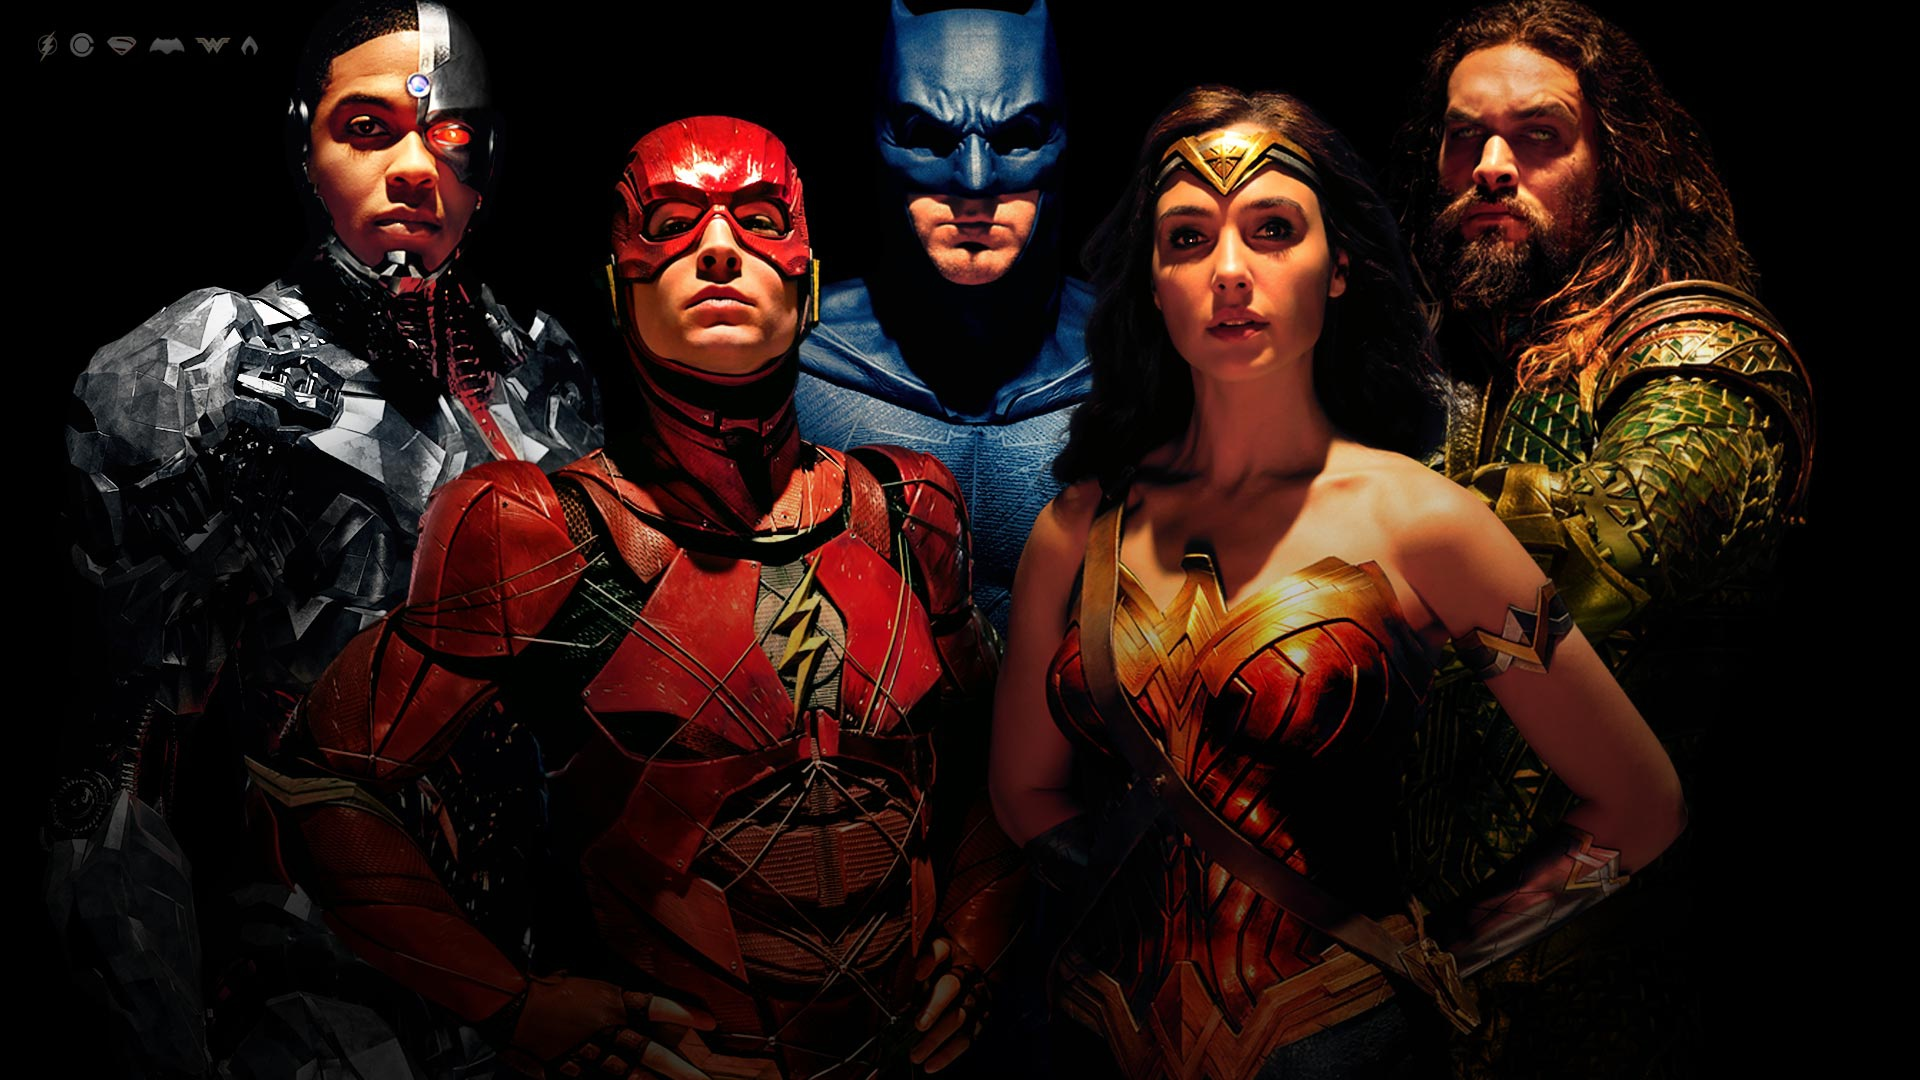bad: (1379, 69, 1604, 291), (860, 69, 1083, 291), (613, 167, 835, 390), (291, 69, 513, 291), (1129, 179, 1315, 367)
